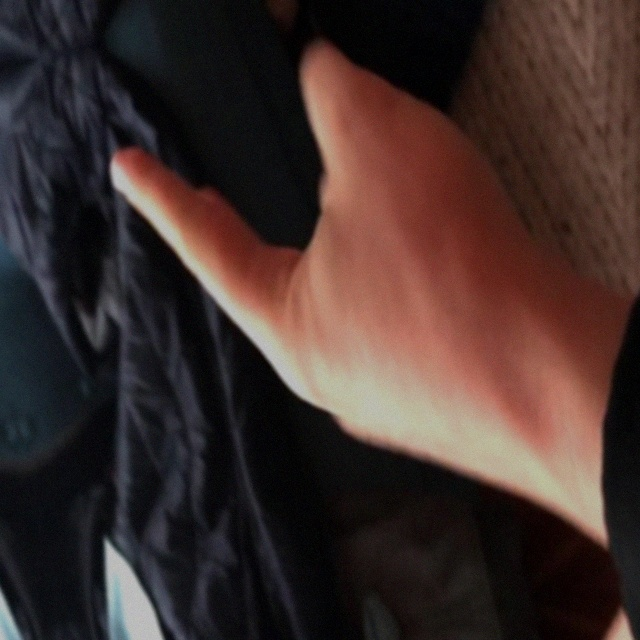Scissors: (94, 4, 585, 563)
